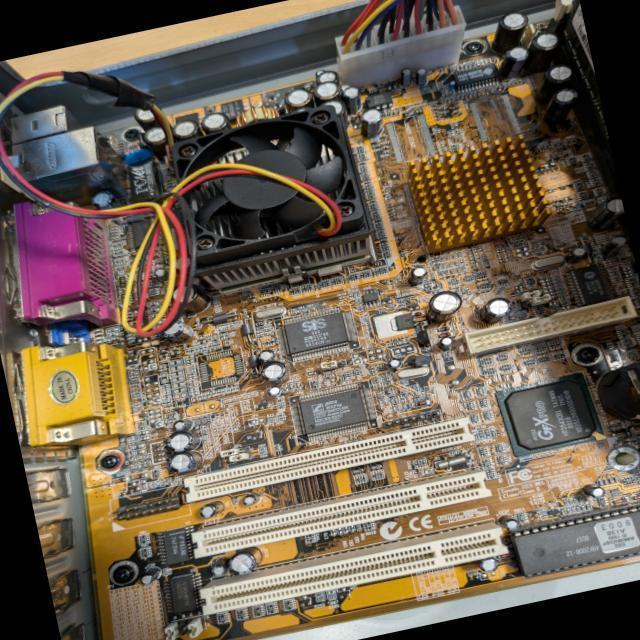CPU_Fan: (163, 100, 380, 296)
Mainboard: (0, 9, 640, 640)
RAM: (557, 0, 603, 119)
